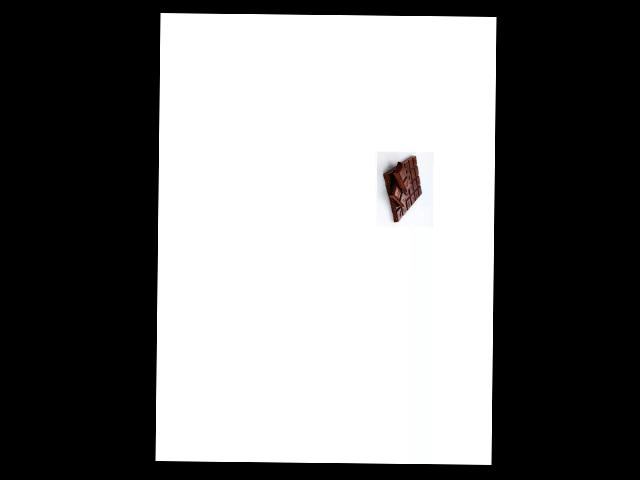chocolate: (379, 154, 425, 223)
